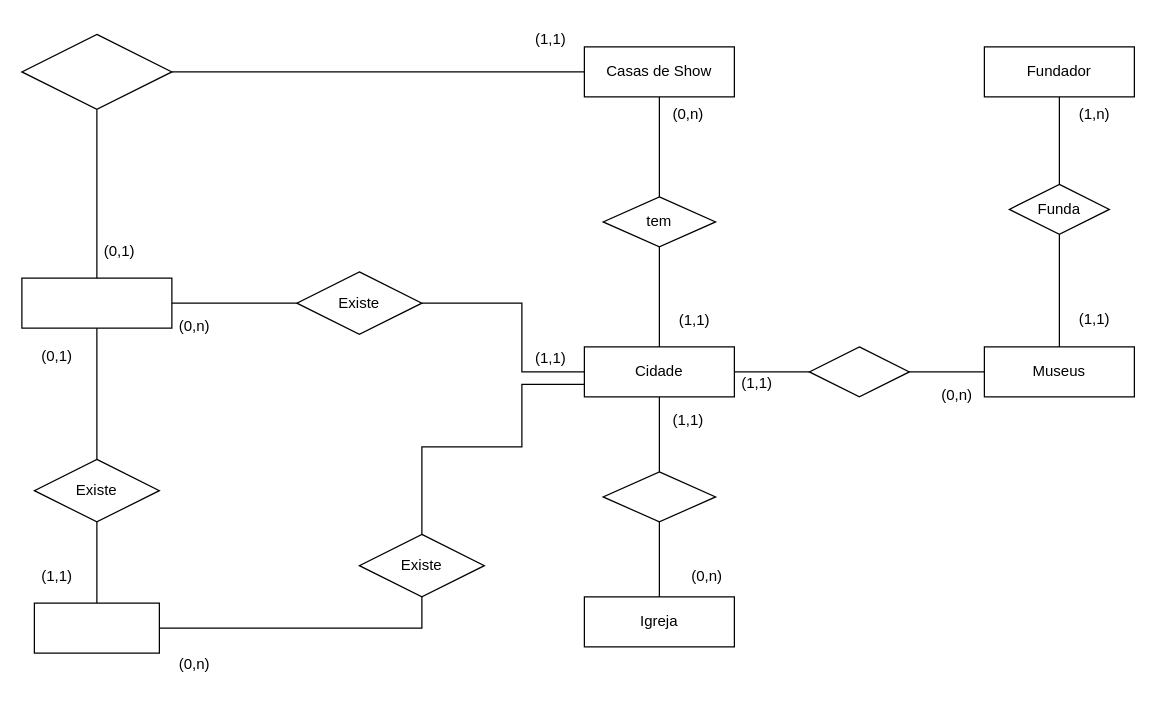
Image size: 1156x709. Some labels were removed from this diagram. Here are the shapes that lost their labels. From the top down, the box of each, then its label:
(21, 33, 172, 109): Pertence
(21, 277, 172, 328): Restaurante
(808, 346, 909, 397): dispõe
(602, 471, 716, 522): Possui
(33, 602, 159, 653): Hotéis
